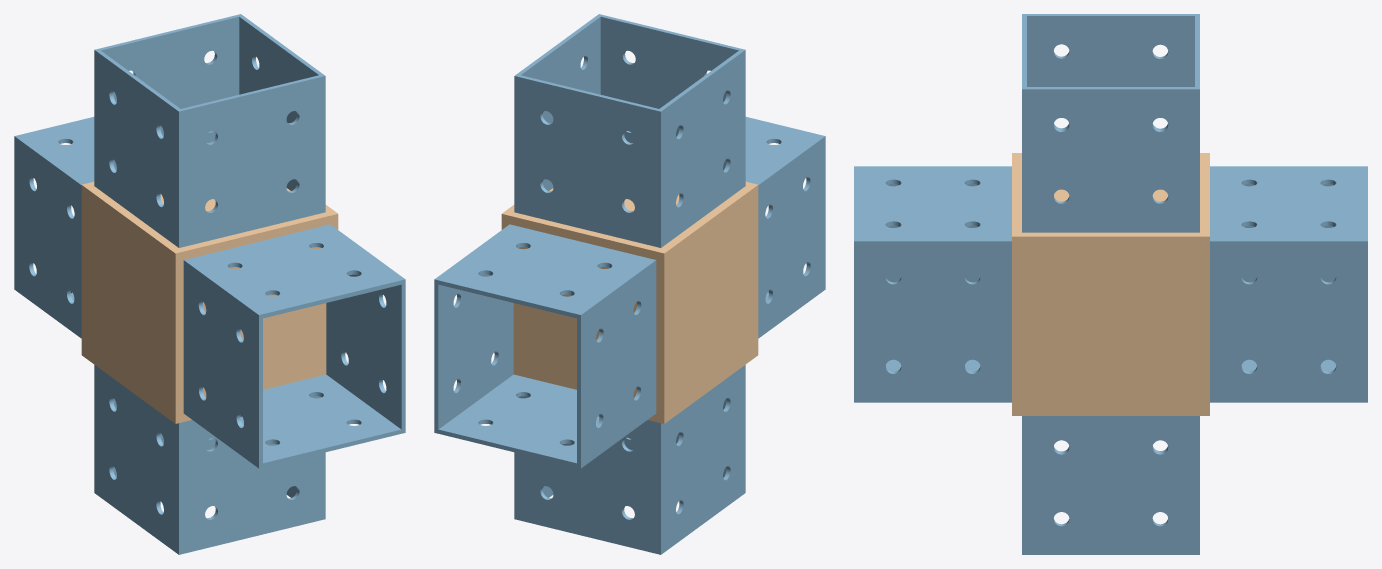
The picture shows the model from 3 angles, left to right: view 1: azimuth 30°, elevation 25°; view 2: azimuth 150°, elevation 25°; view 3: azimuth 270°, elevation 25°; orthographic projection. The views are drawn at different scales.
Parts seen in each view (by area): view 1: <组件#23>_52, <组件#23>_54, <组件#22>_13, <组件#23>_53, <组件#23>_55; view 2: <组件#23>_52, <组件#23>_55, <组件#22>_13, <组件#23>_53, <组件#23>_54; view 3: <组件#22>_13, <组件#23>_52, <组件#23>_54, <组件#23>_55, <组件#23>_53.
Boxes of the visible parts, bbox=[...] form: <组件#23>_52: bbox=[94, 14, 325, 247]; <组件#23>_54: bbox=[183, 224, 405, 468]; <组件#22>_13: bbox=[81, 181, 338, 423]; <组件#23>_53: bbox=[94, 365, 325, 554]; <组件#23>_55: bbox=[14, 117, 94, 338]; <组件#23>_52: bbox=[514, 14, 745, 247]; <组件#23>_55: bbox=[434, 224, 656, 468]; <组件#22>_13: bbox=[501, 181, 758, 423]; <组件#23>_53: bbox=[514, 365, 745, 554]; <组件#23>_54: bbox=[745, 117, 825, 338]; <组件#22>_13: bbox=[1012, 153, 1209, 415]; <组件#23>_52: bbox=[1022, 14, 1199, 232]; <组件#23>_54: bbox=[854, 166, 1011, 402]; <组件#23>_55: bbox=[1210, 166, 1367, 402]; <组件#23>_53: bbox=[1022, 416, 1199, 554].
Bounding box in the file's own units: 7.87 × 20.47 × 20.47.
